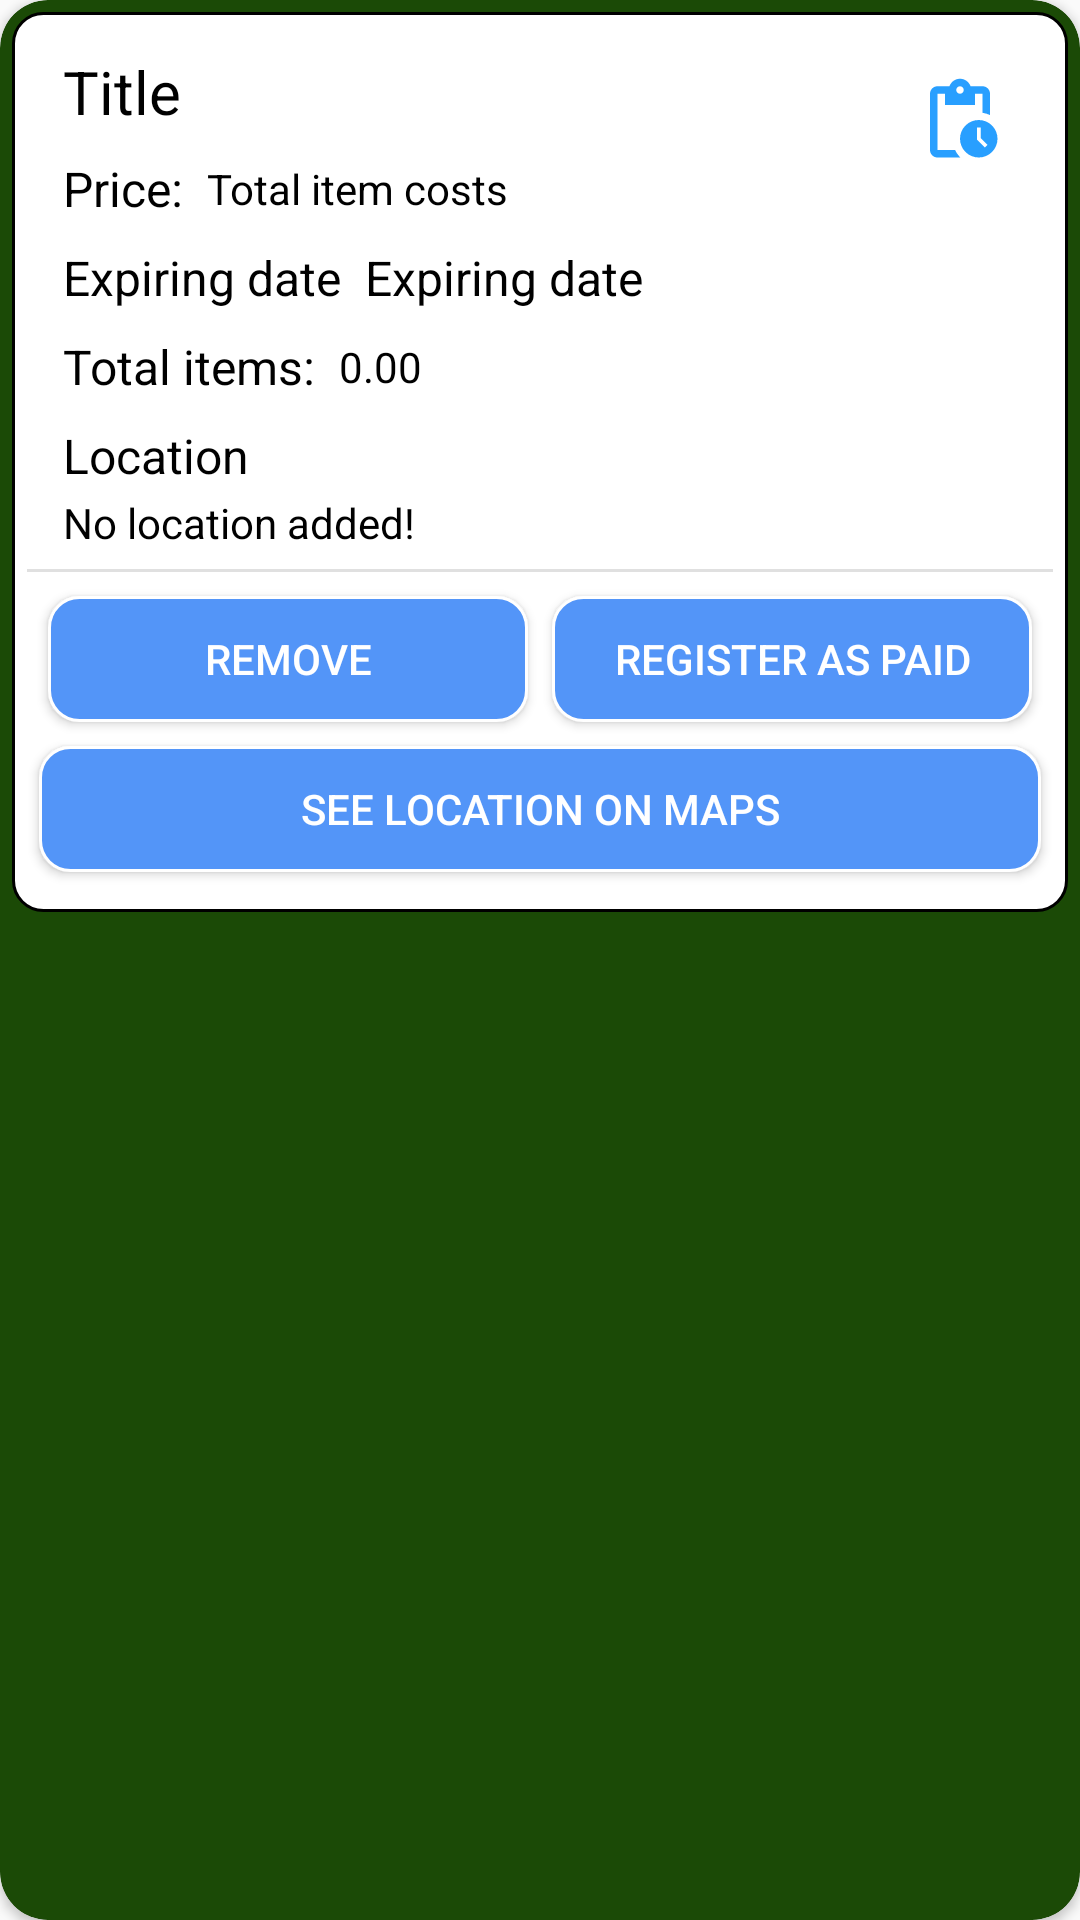

Icon bounding boxes for this 1080w x 1920h phone screenshot, format (x1, y1, x2, y2):
Active occasion icon: (930, 78, 998, 158)
